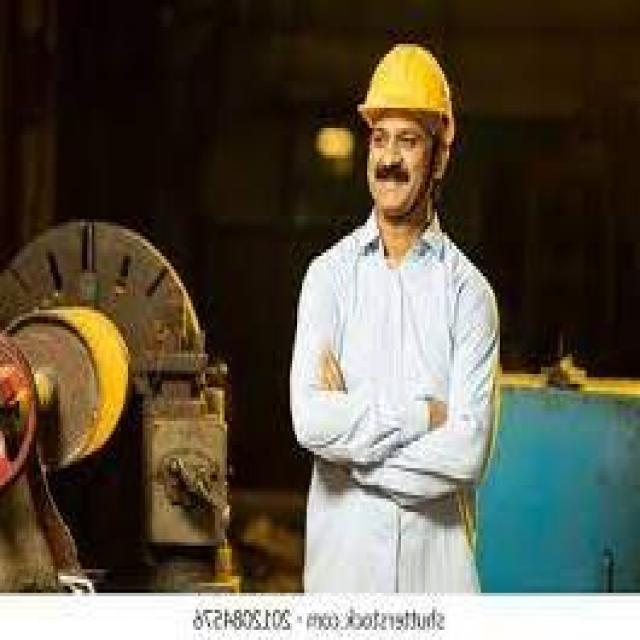Safety-Helmet: (355, 37, 461, 142)
